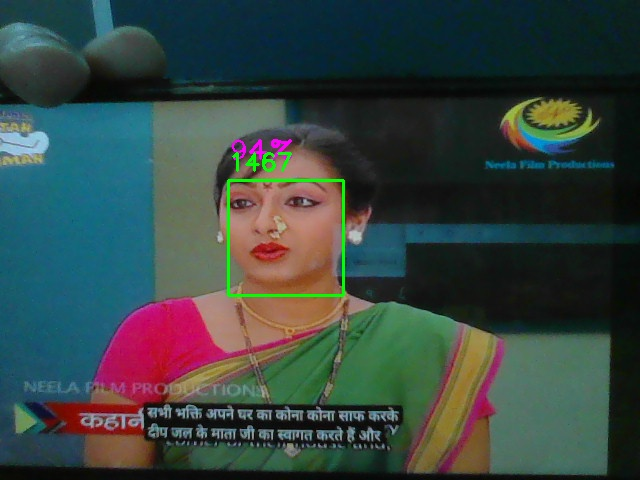fake: (228, 180, 344, 296)
